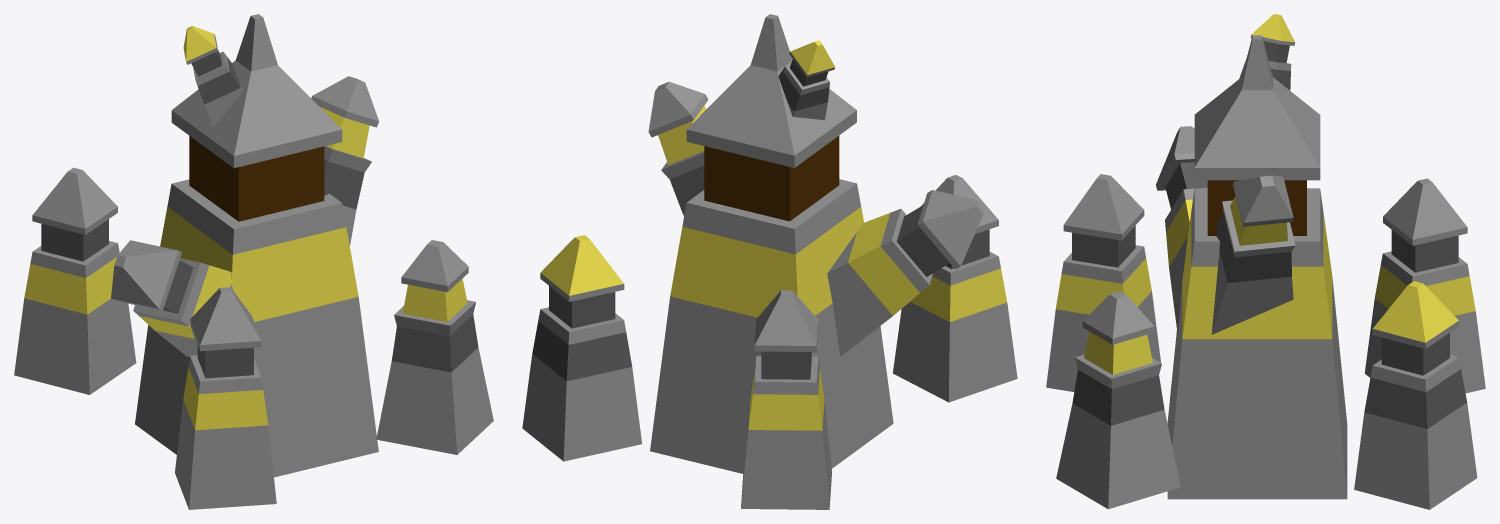
File: SM_TileTowerBase.fbx
3 renders of one model, left to right at view 1: azimuth 30°, elevation 25°; view 2: azimuth 150°, elevation 25°; view 3: azimuth 270°, elevation 25°, orthographic.
Visible parts, largest first — view 1: TileTowerBase; view 2: TileTowerBase; view 3: TileTowerBase.
Boxes of the visible parts, x1,y1,x2,y2 form: TileTowerBase: [14, 14, 493, 509]; TileTowerBase: [522, 14, 1017, 509]; TileTowerBase: [1046, 14, 1485, 509].
Size of the model in its own units: 430 by 507 by 477.
